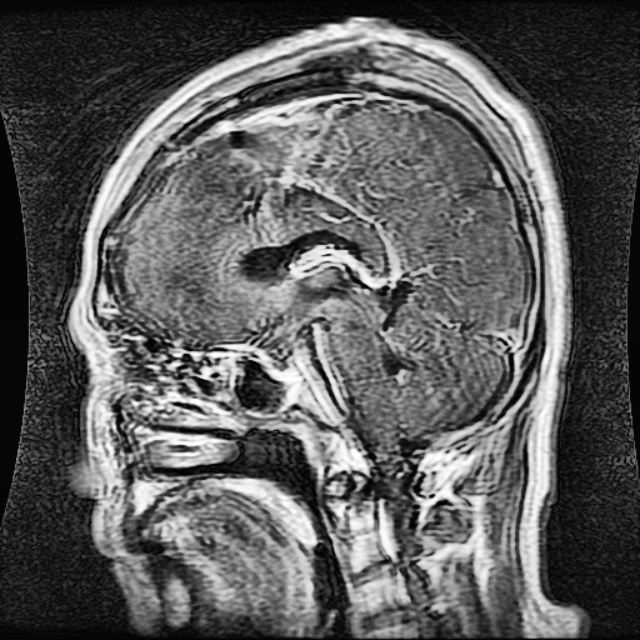Meningioma: (220, 109, 354, 204)
